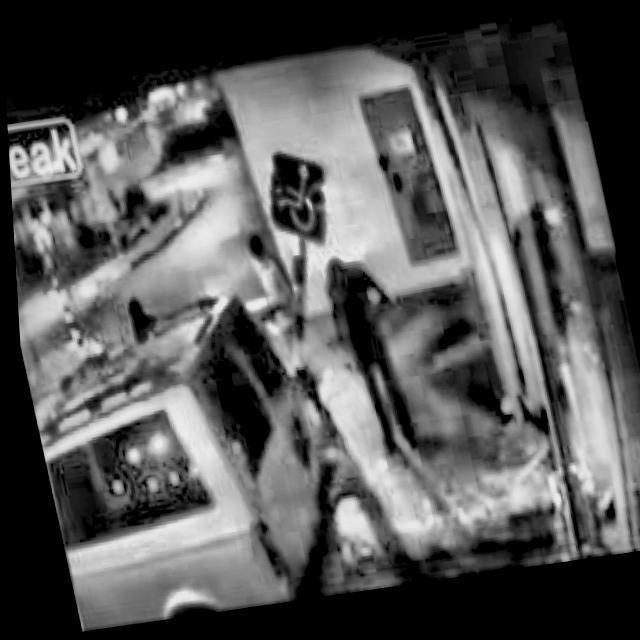Weapon: (322, 242, 500, 489), (216, 228, 326, 331)
